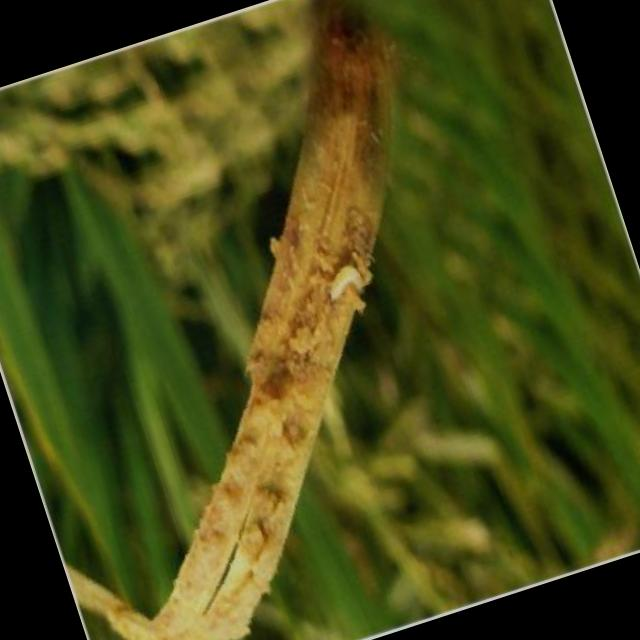whorl-maggot: (310, 250, 378, 322)
